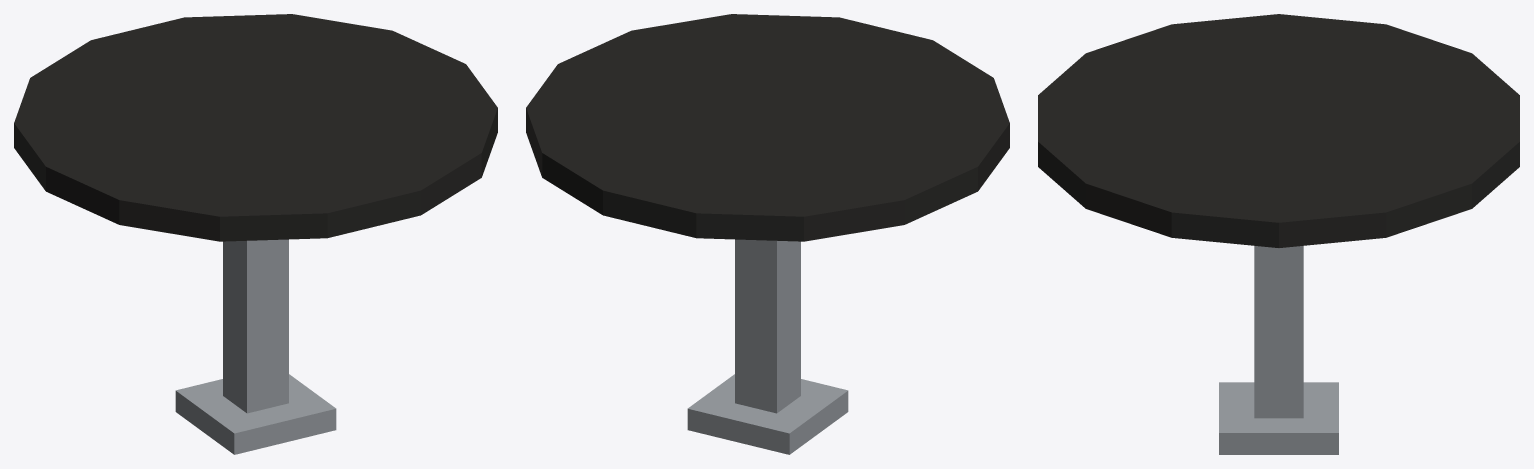
Rendered from Table_2C.fbx.
The picture shows the model from 3 angles, left to right: view 1: azimuth 30°, elevation 25°; view 2: azimuth 150°, elevation 25°; view 3: azimuth 270°, elevation 25°; orthographic projection.
Visible parts, largest first — view 1: polySurface1731; view 2: polySurface1731; view 3: polySurface1731.
Part boxes in pixels (x1,y1,x2,y2): polySurface1731: (14,14,497,454); polySurface1731: (526,14,1009,454); polySurface1731: (1038,14,1519,454).
Size of the model in its own units: 1.5 by 1.04 by 1.46.
1 material, 1 textured.
